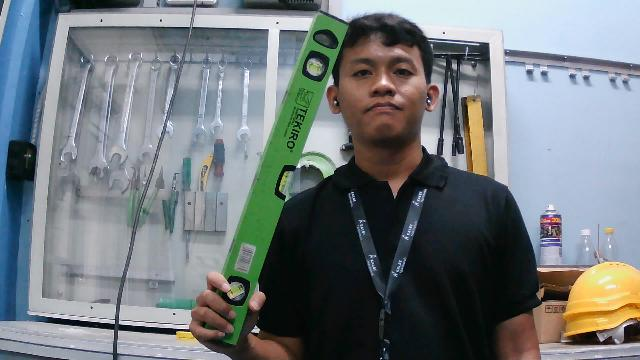water_pass: (197, 7, 353, 358)
